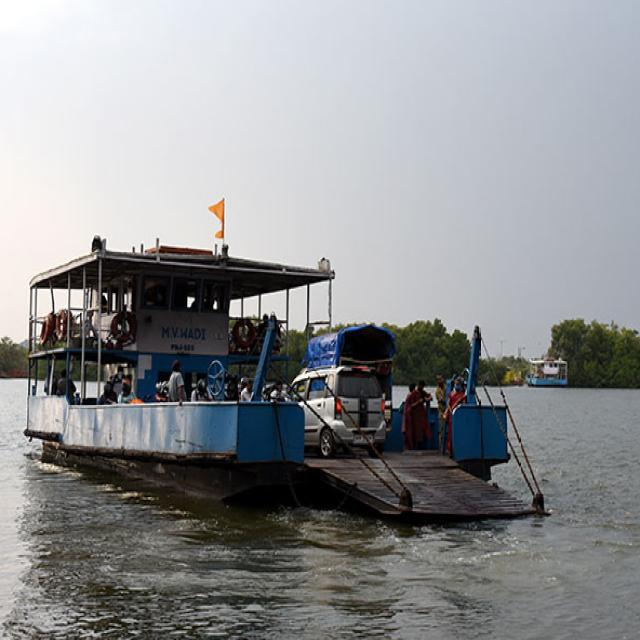cargoship: (40, 199, 573, 549)
